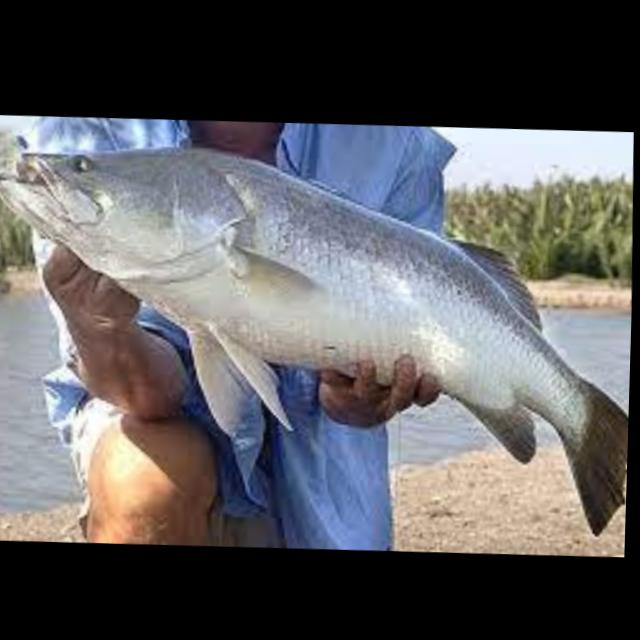Seabass: (0, 127, 636, 546)
